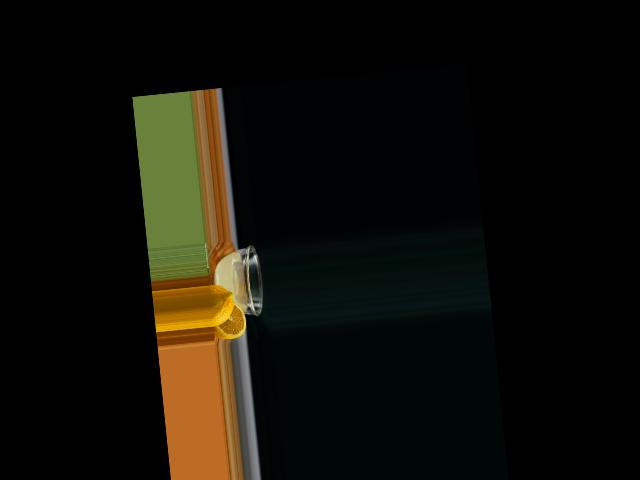lemon: (208, 282, 247, 338)
